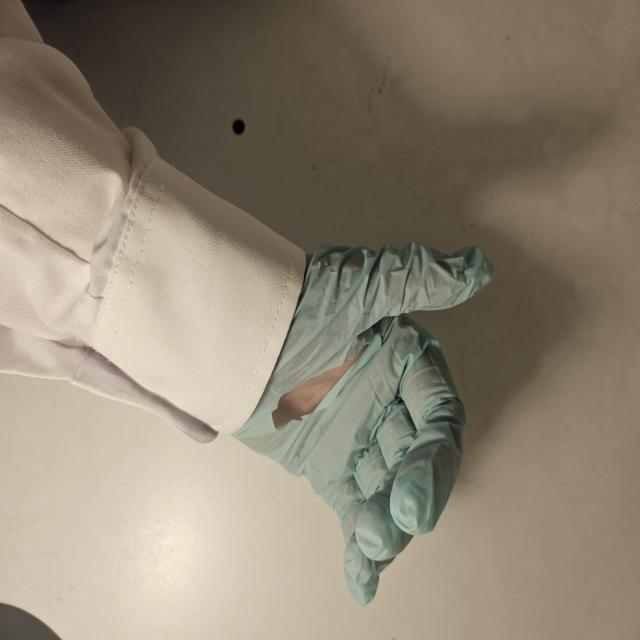gloves_damaged: (226, 236, 496, 611)
